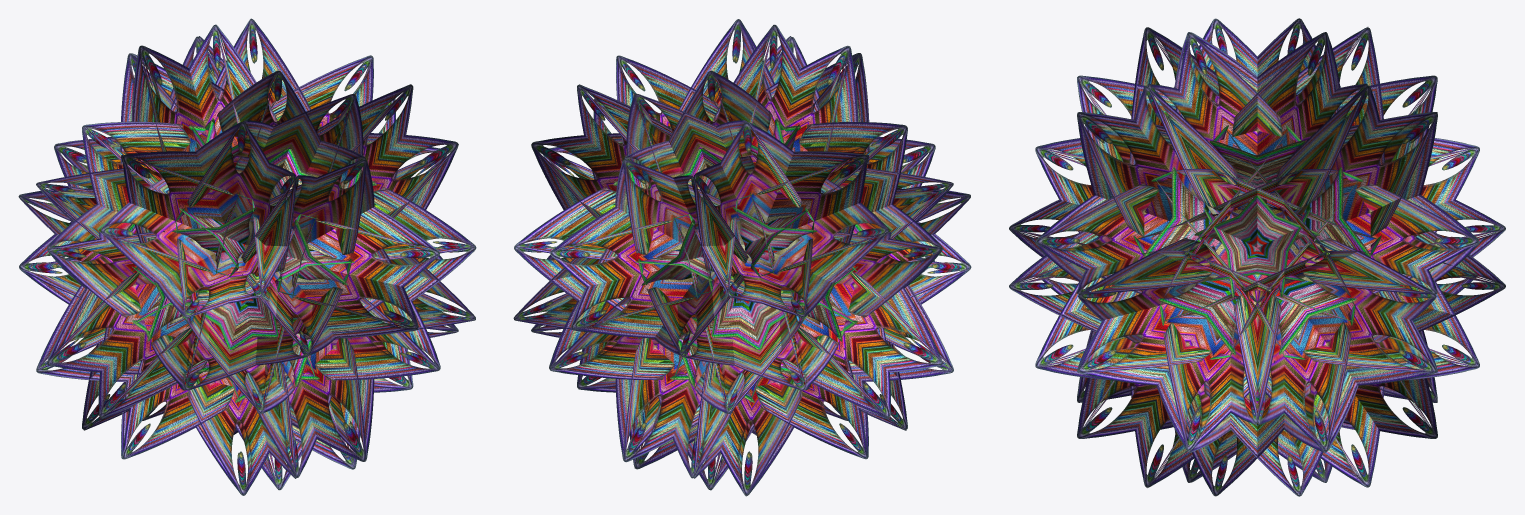
Rendered from 2GreatRhombidodecahedron.gltf.
The picture shows the model from 3 angles, left to right: view 1: azimuth 30°, elevation 25°; view 2: azimuth 150°, elevation 25°; view 3: azimuth 270°, elevation 25°; orthographic projection. The views are drawn at different scales.
Visible parts, largest first — view 1: 1GreatRhombidodecahedron; view 2: 1GreatRhombidodecahedron; view 3: 1GreatRhombidodecahedron.
Part boxes in pixels (bbox=[...]): 1GreatRhombidodecahedron: bbox=[18, 18, 476, 495]; 1GreatRhombidodecahedron: bbox=[513, 19, 971, 496]; 1GreatRhombidodecahedron: bbox=[1009, 18, 1505, 496].
Size of the model in its own units: 1.38 by 1.38 by 1.38.
1 material, 1 textured.
